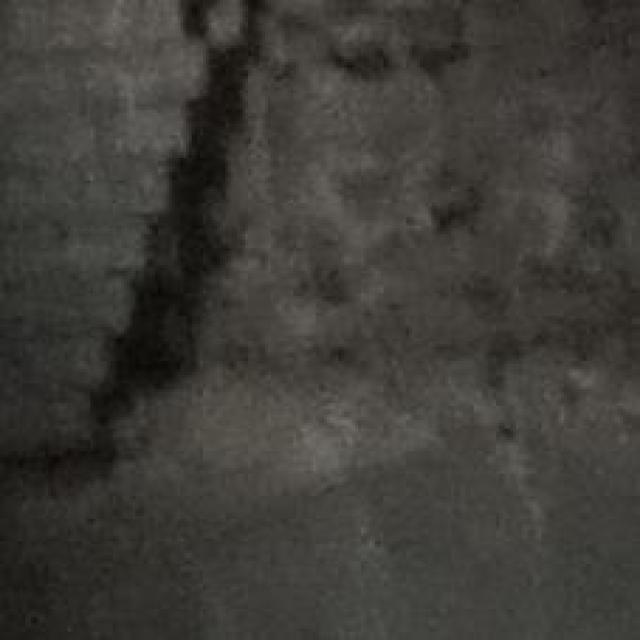Crack: (59, 0, 338, 507)
